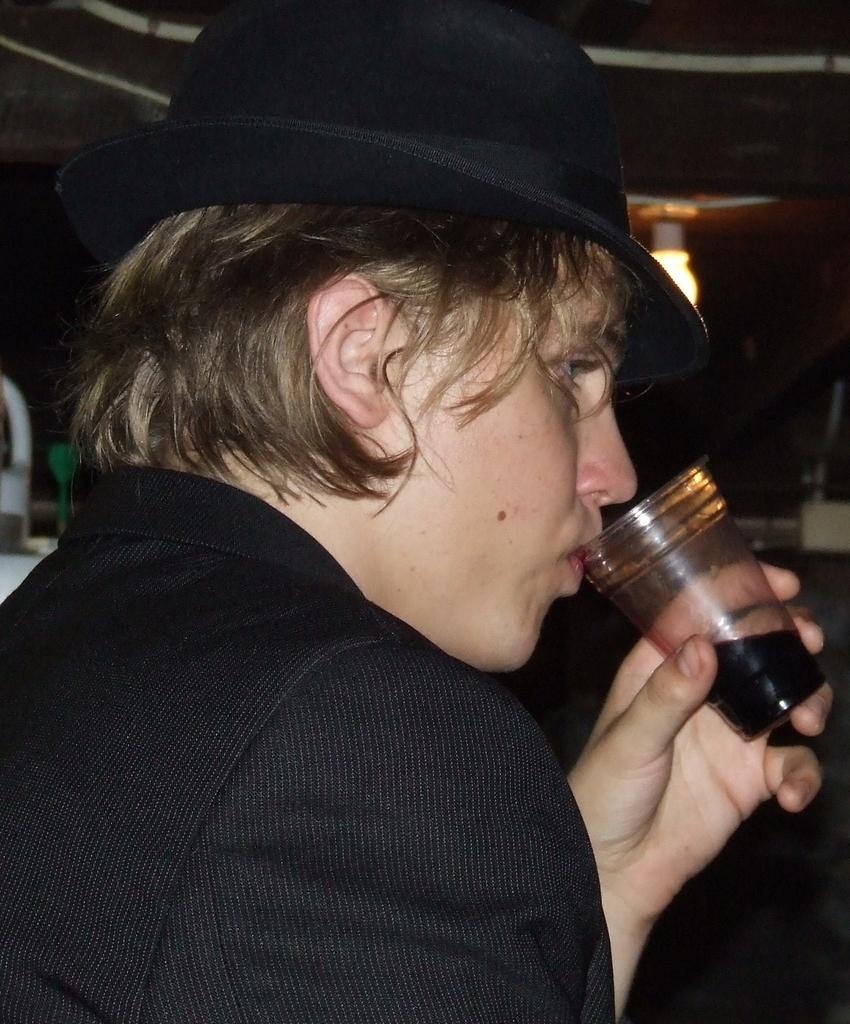Hat: (59, 0, 715, 390)
